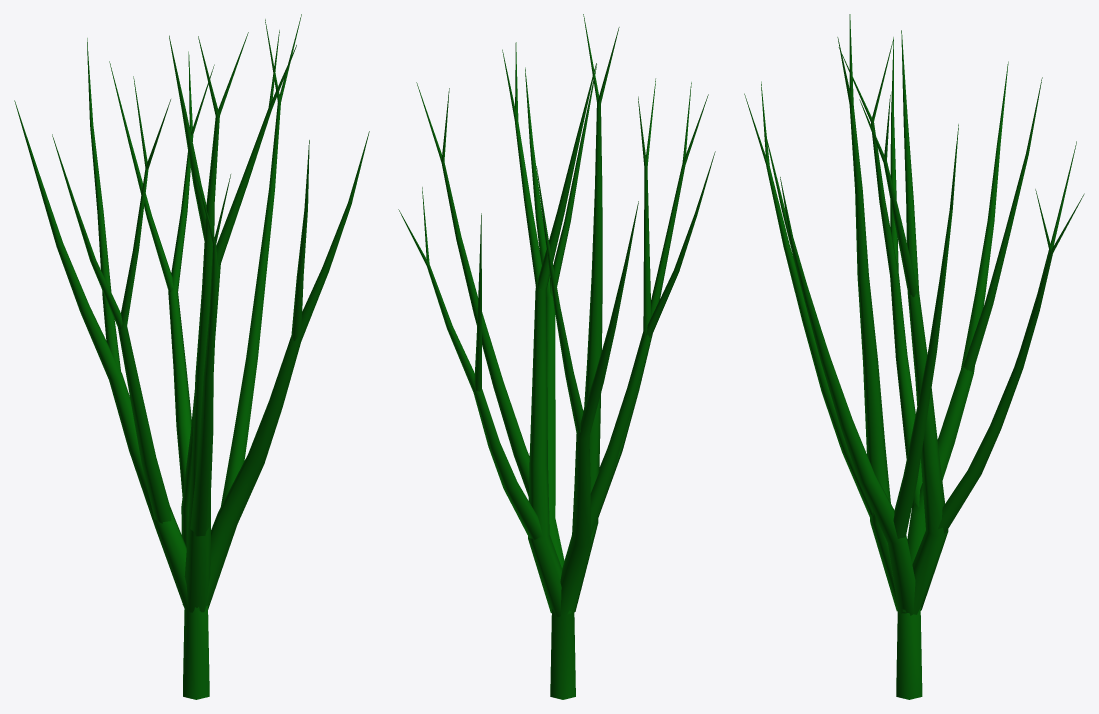
The model's file is plant.fbx.
3 views of the same model, side by side, from view 1: azimuth 30°, elevation 25°; view 2: azimuth 150°, elevation 25°; view 3: azimuth 270°, elevation 25° (orthographic). The views are drawn at different scales.
Visible parts, largest first — view 1: plant1; view 2: plant1; view 3: plant1.
Boxes of the visible parts, box(x1,y1,x2,y2) form: plant1: box(14, 14, 369, 699); plant1: box(398, 14, 715, 699); plant1: box(744, 14, 1084, 699).
Bounding box in the file's own units: 61.25 × 142 × 65.91.
